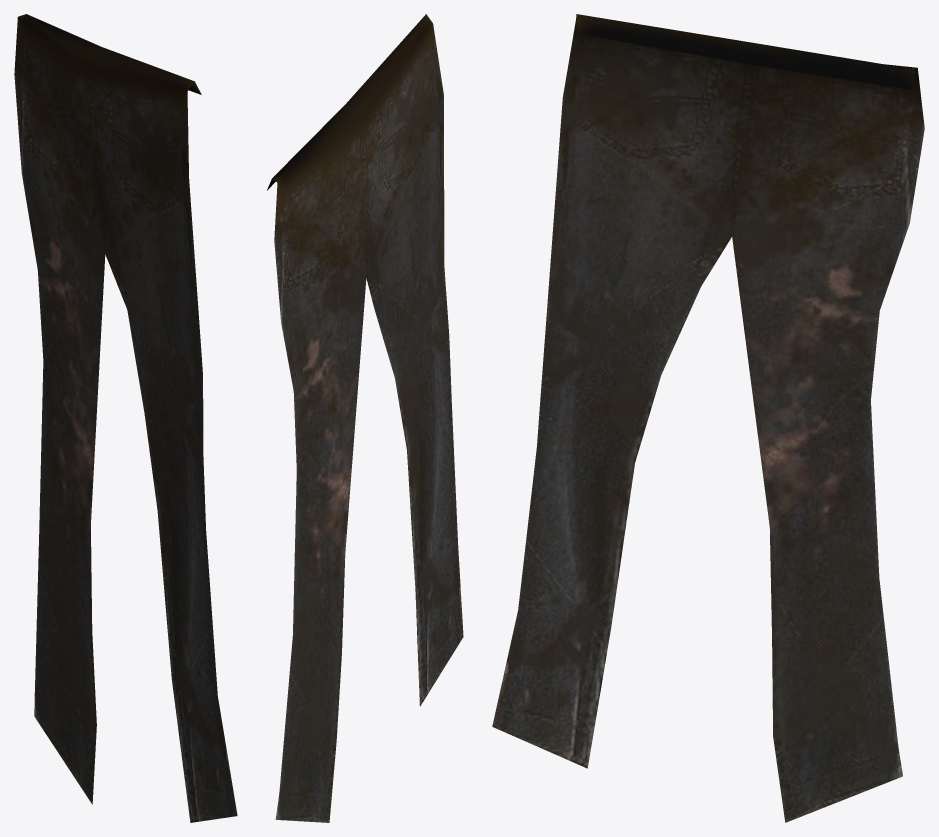
File: Jeans_02.FBX
The picture shows the model from 3 angles, left to right: view 1: azimuth 30°, elevation 25°; view 2: azimuth 150°, elevation 25°; view 3: azimuth 270°, elevation 25°; orthographic projection. The views are drawn at different scales.
Parts seen in each view (by area): view 1: Jeans_02; view 2: Jeans_02; view 3: Jeans_02.
Boxes of the visible parts, <box> form: Jeans_02: <box>14,14,237,822</box>; Jeans_02: <box>267,14,463,822</box>; Jeans_02: <box>492,14,924,822</box>.
Size of the model in its own units: 3.98 by 112 by 54.33.
